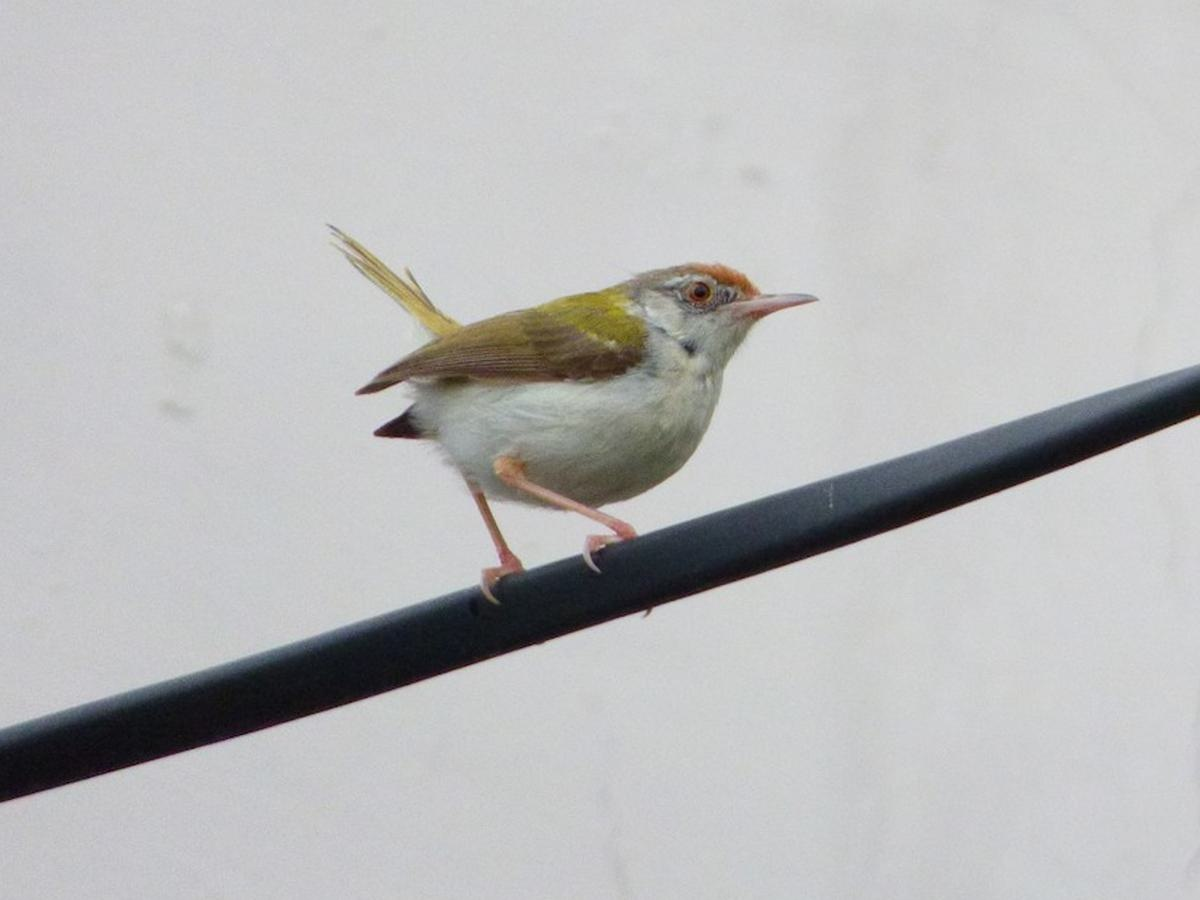tailorbird: (306, 184, 824, 590)
